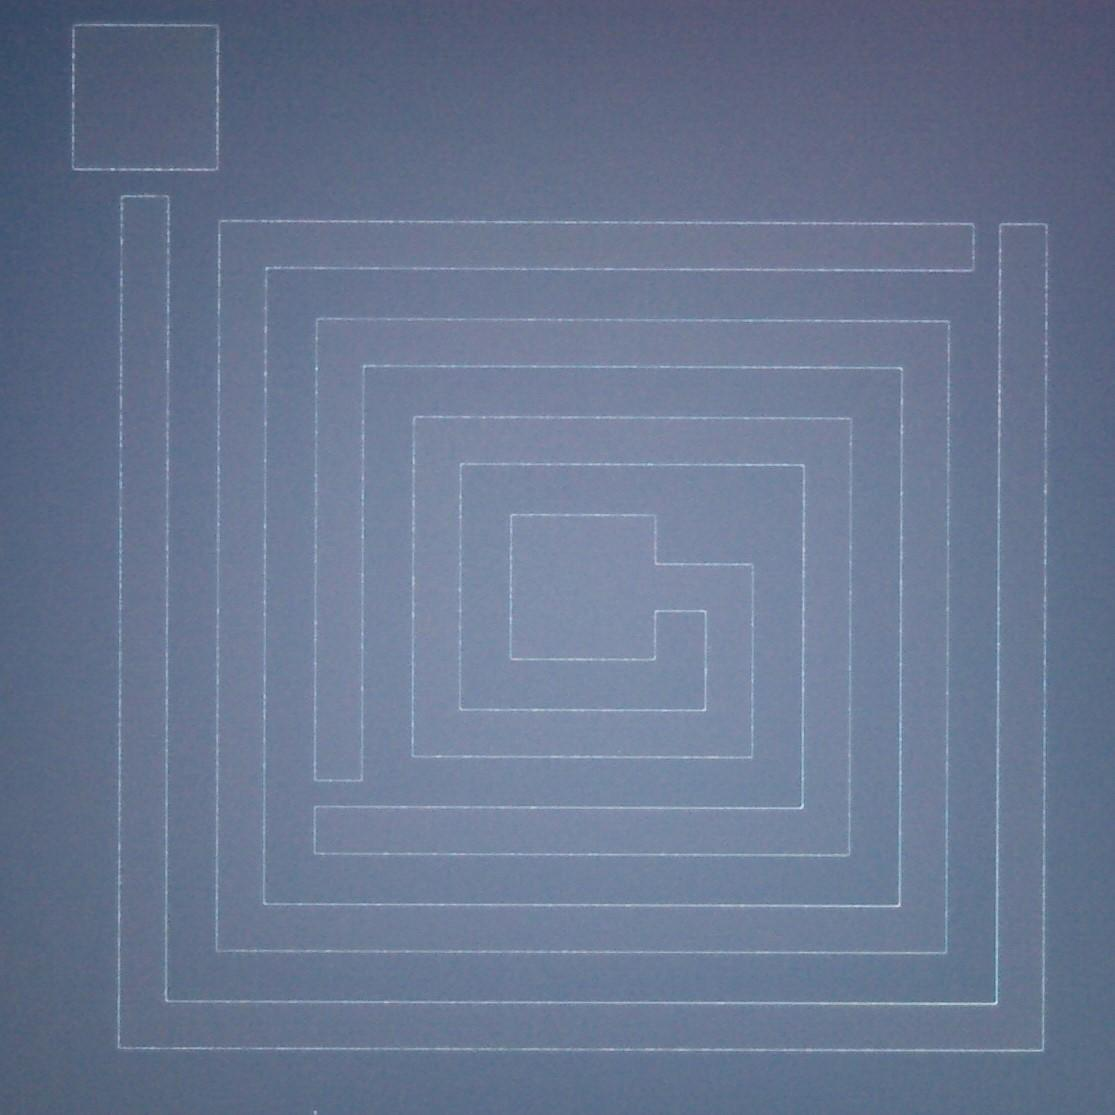cut: (949, 202, 1073, 295), (65, 147, 232, 211), (304, 754, 384, 880)
